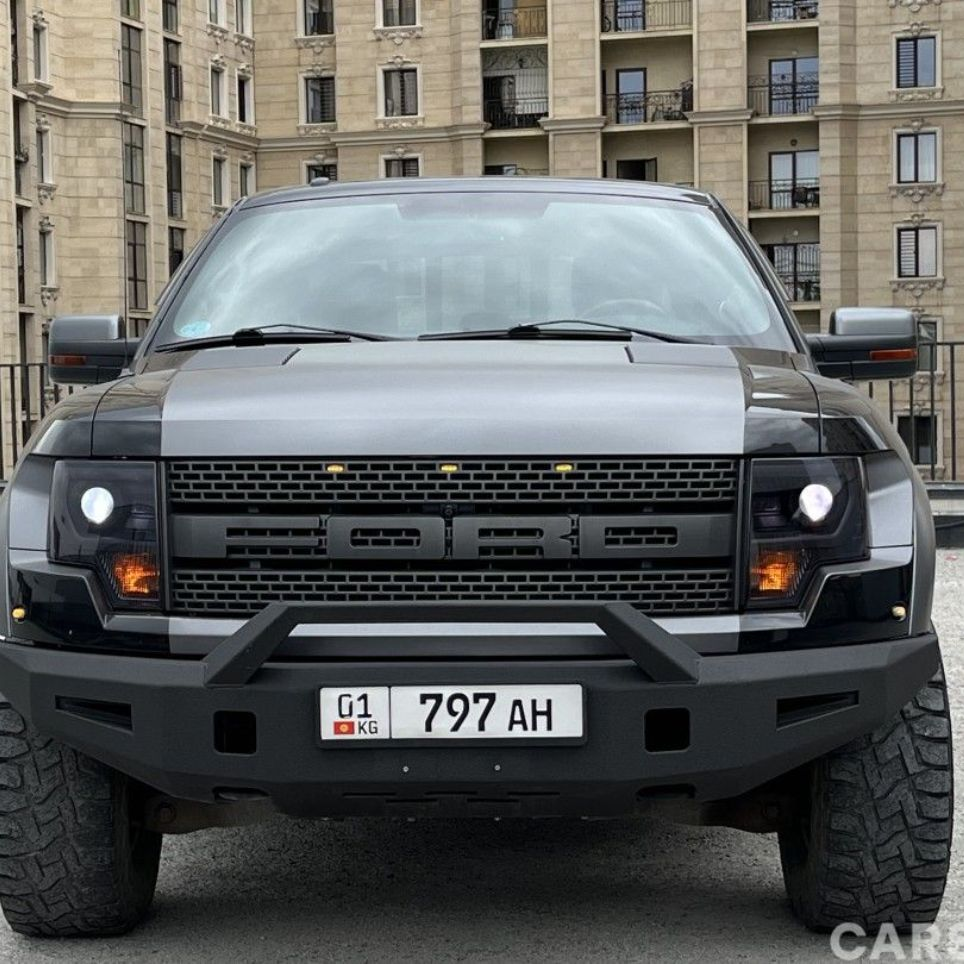license plate: (314, 687, 584, 738)
truck: (4, 166, 963, 940)
